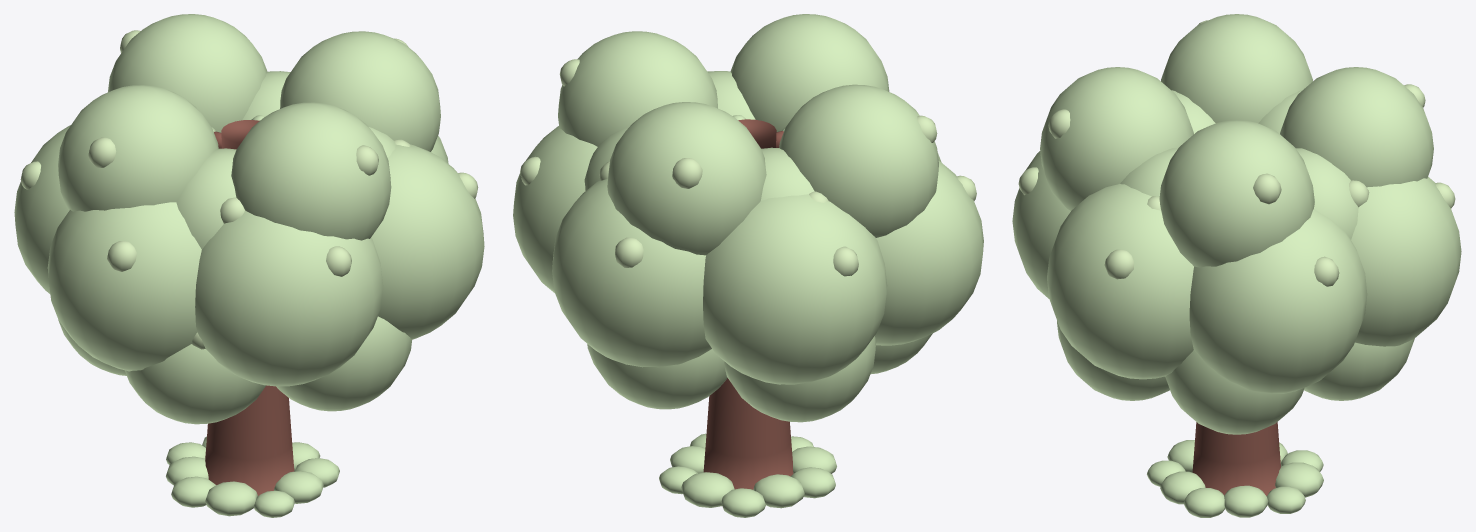
File: 12-big-puffy-tree.glb
3 renders of one model, left to right at view 1: azimuth 30°, elevation 25°; view 2: azimuth 150°, elevation 25°; view 3: azimuth 270°, elevation 25°, orthographic.
Visible parts, largest first — view 1: CanopyM4, CanopyM3, CanopyC3, CanopyM5, CanopyC2, CanopyC0, CanopyC1, Trunk, CanopyL3, CanopyL4, CanopyM2, CanopyF2 (+13 smaller); view 2: CanopyM2, CanopyM1, CanopyC1, CanopyC2, CanopyM3, CanopyC0, CanopyC3, Trunk, CanopyM0, CanopyL2, CanopyL1, CanopyF1 (+13 smaller); view 3: CanopyM0, CanopyM5, CanopyC0, CanopyM1, CanopyC3, CanopyC1, CanopyC2, CanopyL0, Trunk, CanopyM4, CanopyL1, CanopyF0 (+15 smaller).
Boxes of the visible parts, left/top/right/bottom form: CanopyM4: left=195, top=210, right=383, bottom=386; CanopyM3: left=47, top=202, right=201, bottom=371; CanopyC3: left=231, top=102, right=391, bottom=240; CanopyM5: left=371, top=144, right=484, bottom=339; CanopyC2: left=58, top=85, right=218, bottom=211; CanopyC0: left=280, top=31, right=440, bottom=151; CanopyC1: left=108, top=14, right=267, bottom=132; Trunk: left=205, top=120, right=294, bottom=495; CanopyL3: left=125, top=344, right=265, bottom=424; CanopyL4: left=276, top=316, right=412, bottom=411; CanopyM2: left=14, top=125, right=70, bottom=293; CanopyF2: left=176, top=148, right=236, bottom=249; CanopyM2: left=703, top=194, right=887, bottom=384; CanopyM1: left=552, top=178, right=711, bottom=367; CanopyC1: left=607, top=102, right=766, bottom=255; CanopyC2: left=779, top=84, right=938, bottom=237; CanopyM3: left=875, top=161, right=983, bottom=345; CanopyC0: left=558, top=31, right=717, bottom=146; CanopyC3: left=730, top=14, right=889, bottom=131; Trunk: left=703, top=119, right=793, bottom=489; CanopyM0: left=513, top=126, right=597, bottom=292; CanopyL2: left=724, top=336, right=876, bottom=422; CanopyL1: left=587, top=344, right=727, bottom=409; CanopyF1: left=761, top=147, right=814, bottom=200; CanopyM0: left=1189, top=209, right=1367, bottom=393; CanopyM5: left=1047, top=184, right=1193, bottom=379; CanopyC0: left=1159, top=120, right=1314, bottom=267; CanopyM1: left=1351, top=176, right=1461, bottom=346; CanopyC3: left=1040, top=67, right=1193, bottom=210; CanopyC1: left=1280, top=67, right=1433, bottom=187; CanopyC2: left=1161, top=14, right=1312, bottom=122; CanopyL0: left=1165, top=350, right=1304, bottom=434; Trunk: left=1192, top=422, right=1280, bottom=495; CanopyM4: left=1012, top=151, right=1070, bottom=298; CanopyL1: left=1304, top=338, right=1414, bottom=400; CanopyF0: left=1296, top=148, right=1358, bottom=239.
Size of the model in its own units: 1.01 by 1 by 0.964.
